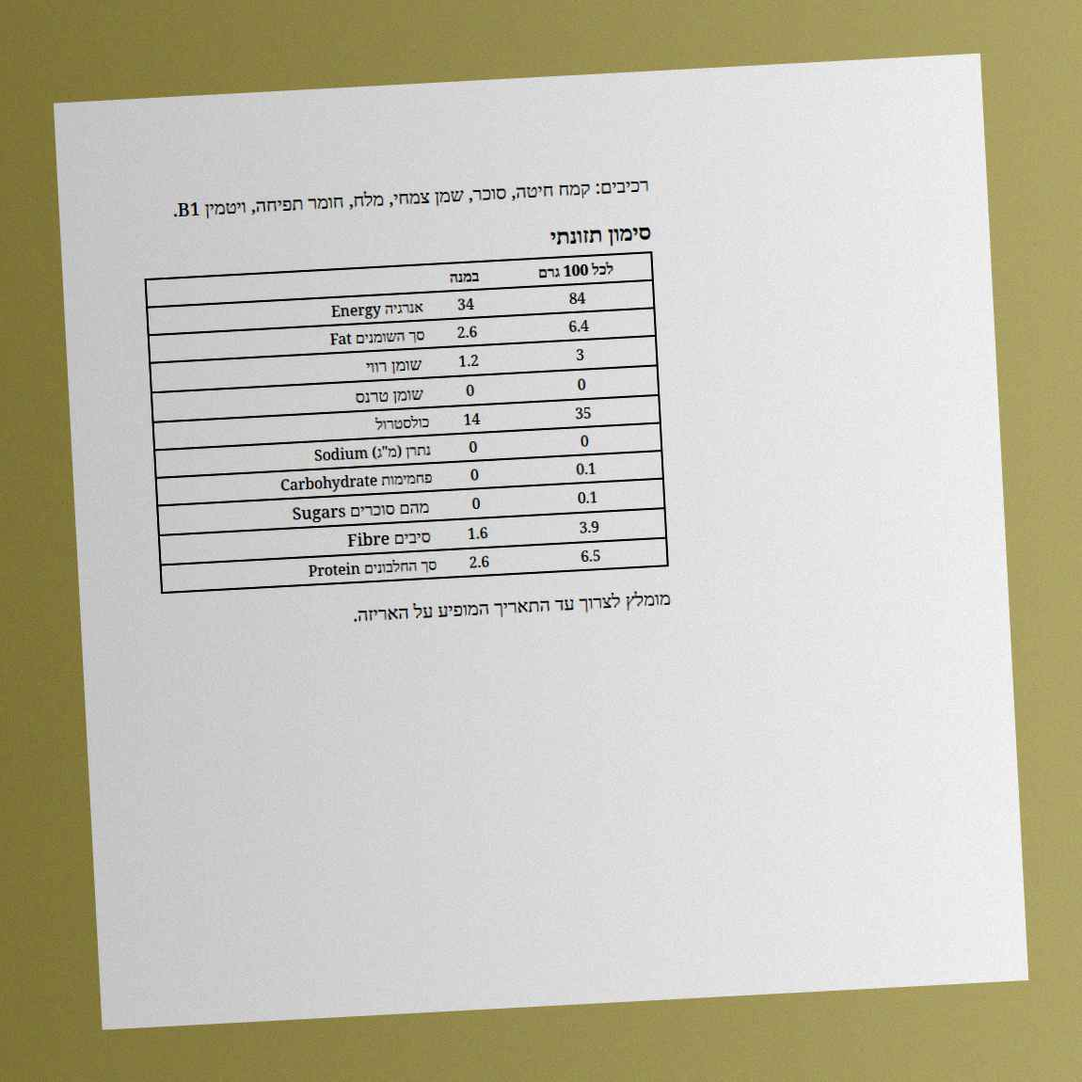carbs: (573, 455, 599, 482)
energy: (566, 285, 589, 311)
fat: (565, 313, 592, 339)
protein: (577, 542, 604, 569)
